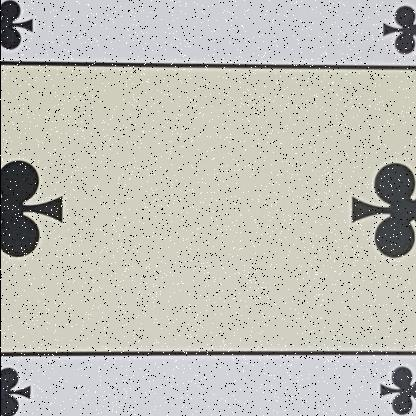2c: (368, 0, 415, 83), (371, 357, 415, 416)
